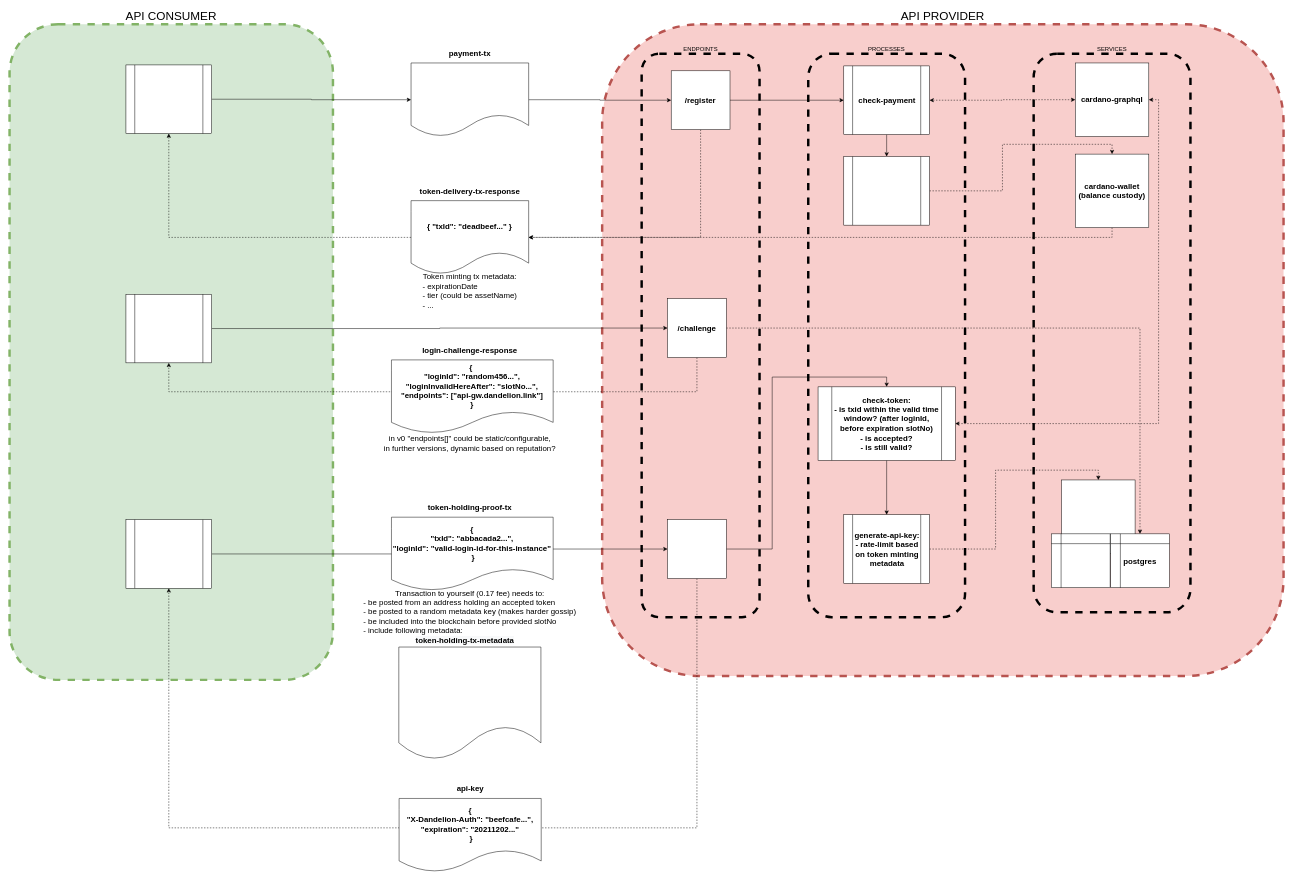
The diagram is 1293 pixels wide and 881 high, and some of its shapes have lost their labels. The centre of each missing label's shape, as x and y in pixels:
/login: point 696,548
forge-token: - on demand - cli to build tx - add metadata (expiration...): point 886,190
GET /challenge: point 168,328
kong (header-based rate limiter): point 1098,516
POST /login: point 168,553
POST /register: point 168,99
redis: point 1080,560
{ "policyId": "badcafe...", "assetName": "dandelion1day" }: point 469,703
{ "txId": "abbacada..." }: point 470,99
